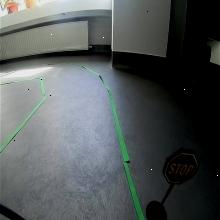stop: (164, 147, 199, 185)
